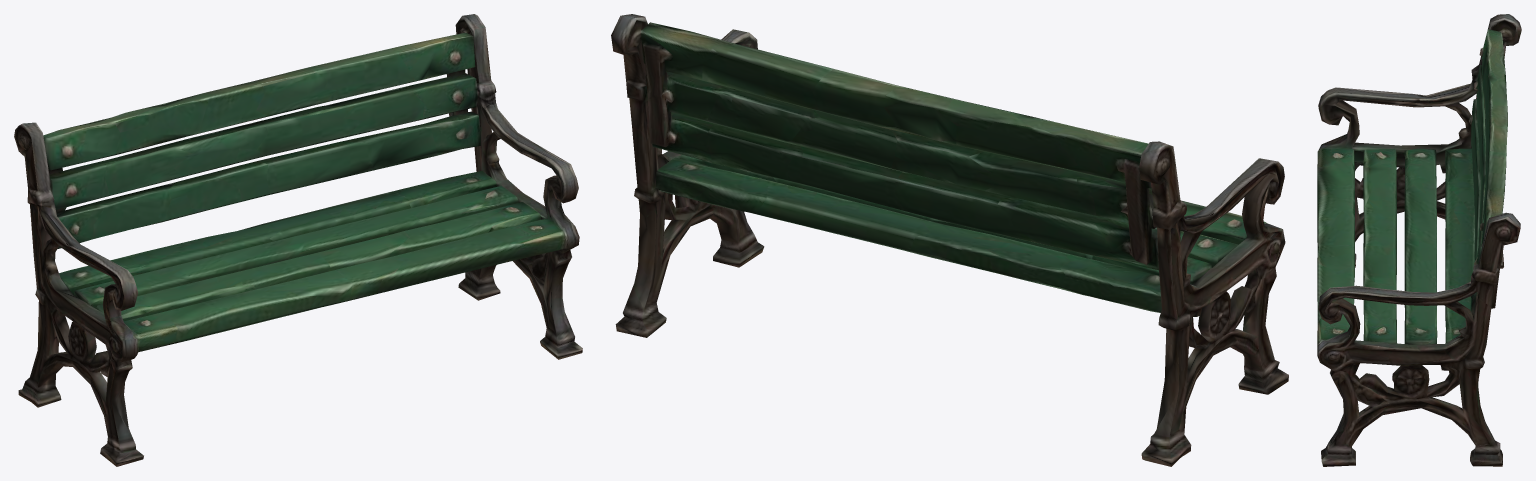
3 views of the same model, side by side, from view 1: azimuth 30°, elevation 25°; view 2: azimuth 150°, elevation 25°; view 3: azimuth 270°, elevation 25° (orthographic). The views are drawn at different scales.
Visible parts, largest first — view 1: tripo_node_41437498-3ff1-45fc-8bff-f37a80ff8525; view 2: tripo_node_41437498-3ff1-45fc-8bff-f37a80ff8525; view 3: tripo_node_41437498-3ff1-45fc-8bff-f37a80ff8525.
Part boxes in pixels (left/top/right/bottom): tripo_node_41437498-3ff1-45fc-8bff-f37a80ff8525: left=14, top=14, right=582, bottom=466; tripo_node_41437498-3ff1-45fc-8bff-f37a80ff8525: left=611, top=14, right=1288, bottom=466; tripo_node_41437498-3ff1-45fc-8bff-f37a80ff8525: left=1317, top=14, right=1521, bottom=466.
Size of the model in its own units: 0.9985 by 0.5488 by 0.4118.
Materials: 1 (1 with a texture image).
